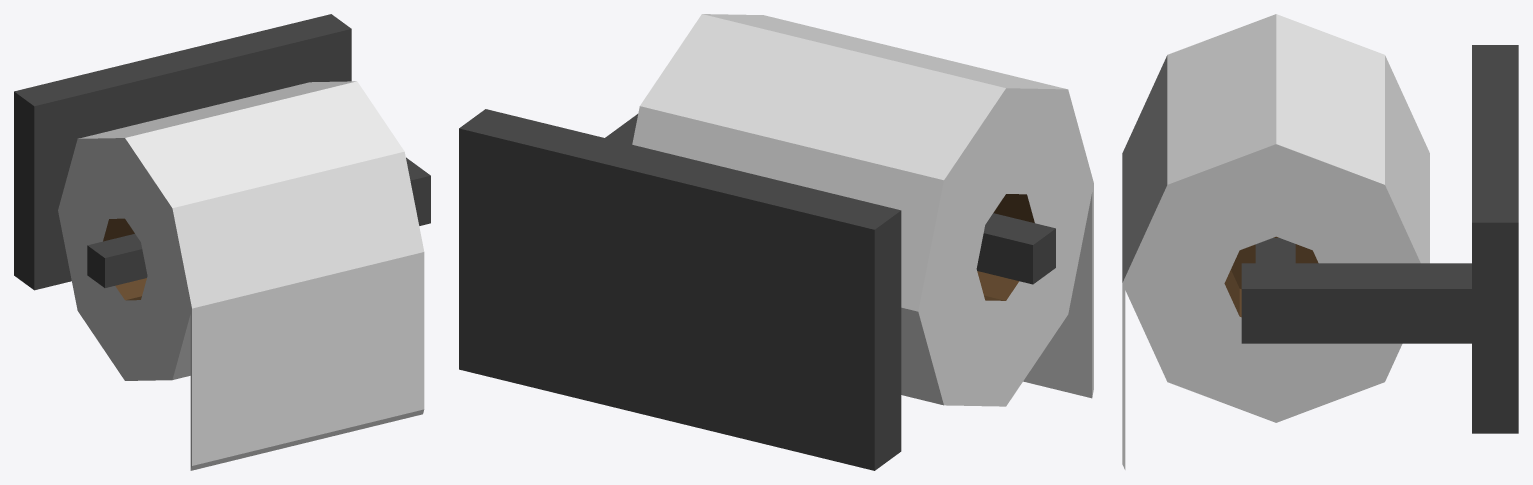
Rendered from ToiletPaper_02.fbx.
The picture shows the model from 3 angles, left to right: view 1: azimuth 30°, elevation 25°; view 2: azimuth 150°, elevation 25°; view 3: azimuth 270°, elevation 25°; orthographic projection. The views are drawn at different scales.
Parts seen in each view (by area): view 1: ToiletPaper_02; view 2: ToiletPaper_02; view 3: ToiletPaper_02.
Boxes of the visible parts, left/top/right/bottom form: ToiletPaper_02: left=14, top=14, right=430, bottom=470; ToiletPaper_02: left=459, top=14, right=1093, bottom=470; ToiletPaper_02: left=1122, top=14, right=1518, bottom=469.
Bounding box in the file's own units: 19.07 × 15.22 × 16.73.
